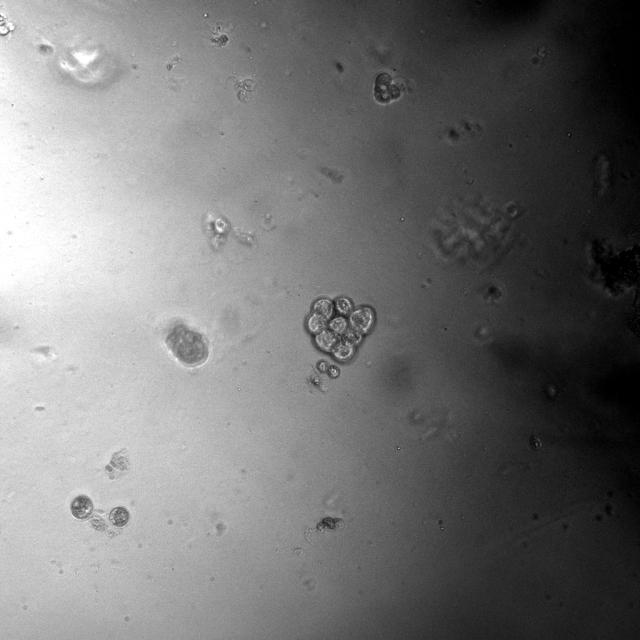organoid: (431, 197, 524, 267), (305, 297, 375, 363), (590, 240, 639, 295), (165, 323, 208, 365), (203, 213, 231, 247), (373, 72, 401, 104), (70, 495, 93, 520), (316, 359, 340, 378), (316, 516, 343, 532), (109, 507, 129, 527), (237, 78, 254, 101), (0, 13, 14, 36), (530, 433, 542, 450)
